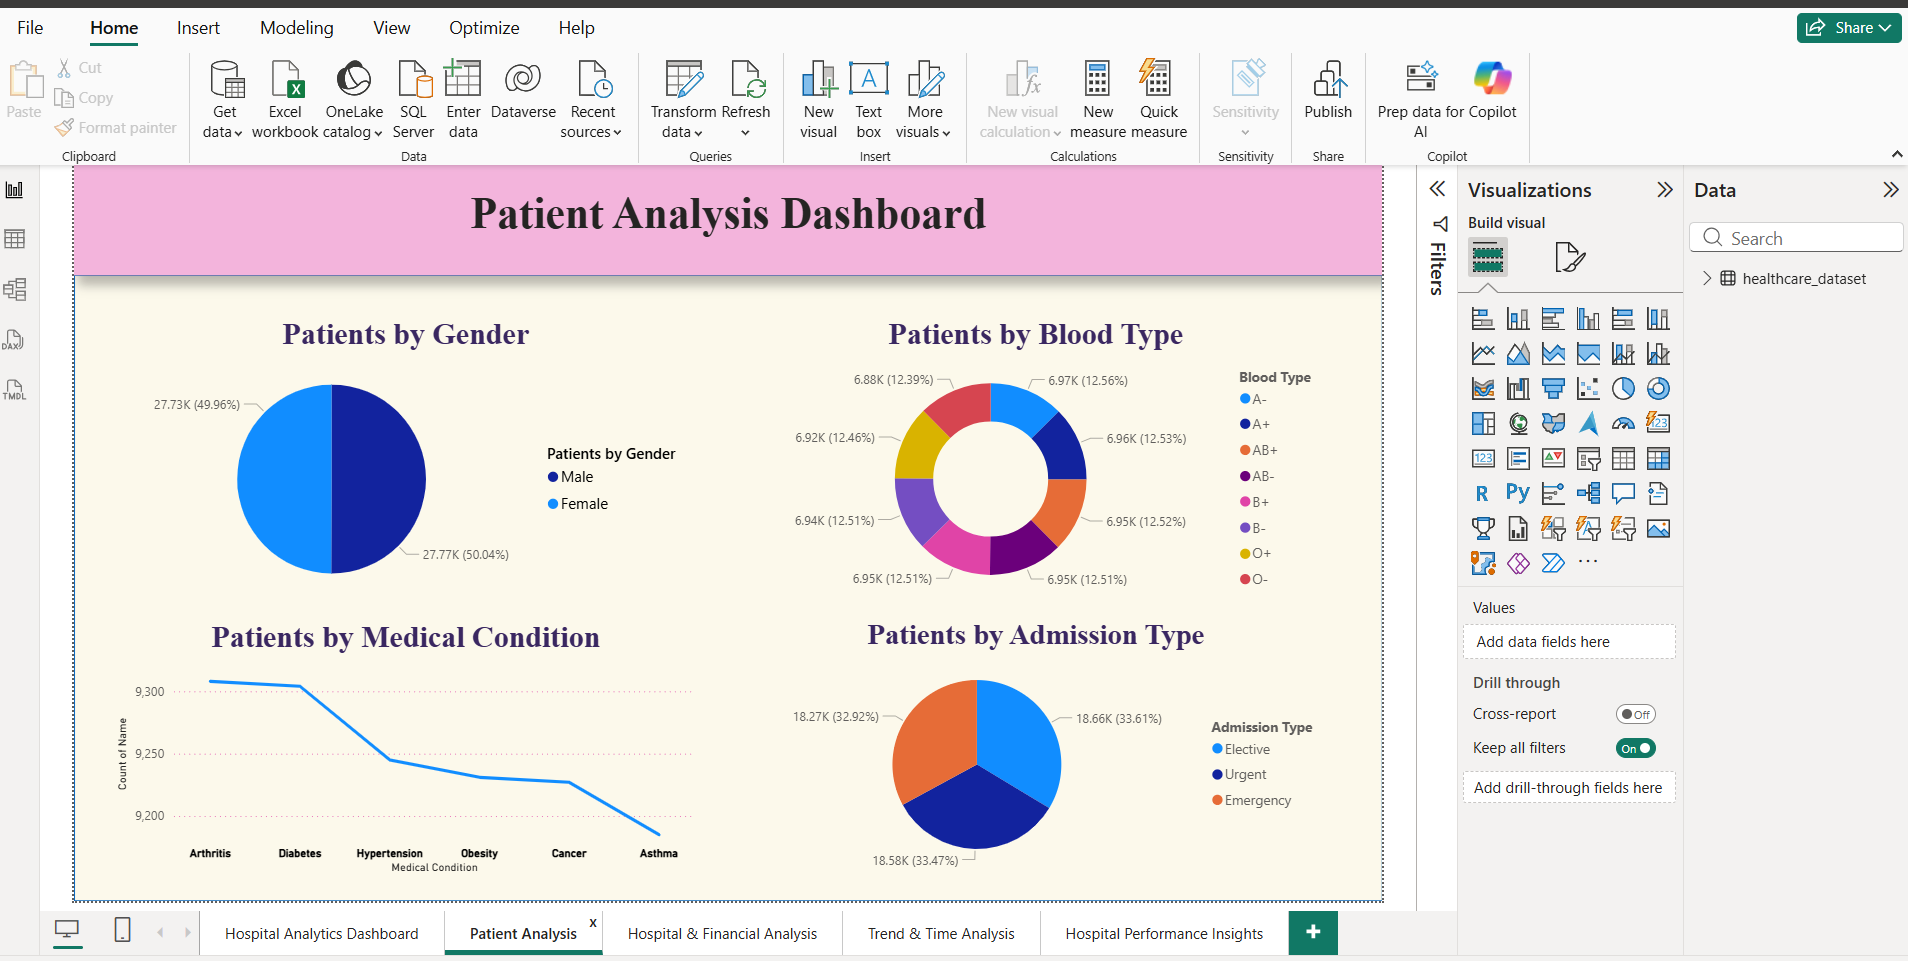

The page's visual inventory and layout, read from the dashboard file:
{"tool":"powerbi","page":{"name":"Patient Analysis","canvas":[1280,720],"ordinal":1},"visuals":[{"type":"shape","box":[0,107.6,1280.3,612.6],"z":0},{"type":"textbox","box":[0,0,1280.3,107.6],"z":1000},{"type":"pieChart","title":"Patients by Gender","fields":{"Category":["healthcare_dataset.Gender"],"Y":["CountNonNull(healthcare_dataset.Name)"]},"box":[36.7,148,576,286.1],"z":2000},{"type":"donutChart","title":"Patients by Blood Type","fields":{"Category":["healthcare_dataset.Blood Type"],"Y":["CountNonNull(healthcare_dataset.Name)"]},"box":[649.3,148,583.3,286.1],"z":3000},{"type":"lineChart","title":"Patients by Medical Condition","fields":{"Category":["healthcare_dataset.Medical Condition"],"Y":["CountNonNull(healthcare_dataset.Name)"]},"box":[36.7,443.9,576,254.3],"z":4000},{"type":"pieChart","title":"Patients by Admission Type","fields":{"Category":["healthcare_dataset.Admission Type"],"Y":["CountNonNull(healthcare_dataset.Name)"]},"box":[649.3,443.9,583.3,254.3],"z":5000}]}

Visuals, with their boxes on the page's 1280x720 design canvas (x1, y1, x2, y2). These are canvas units, not pixel positions in the 1908x961 screenshot, which may show the page scaled, cropped or inside an application window:
shape: 0, 108, 1280, 720
textbox: 0, 0, 1280, 108
"Patients by Gender" pieChart: 37, 148, 613, 434
"Patients by Blood Type" donutChart: 649, 148, 1233, 434
"Patients by Medical Condition" lineChart: 37, 444, 613, 698
"Patients by Admission Type" pieChart: 649, 444, 1233, 698
